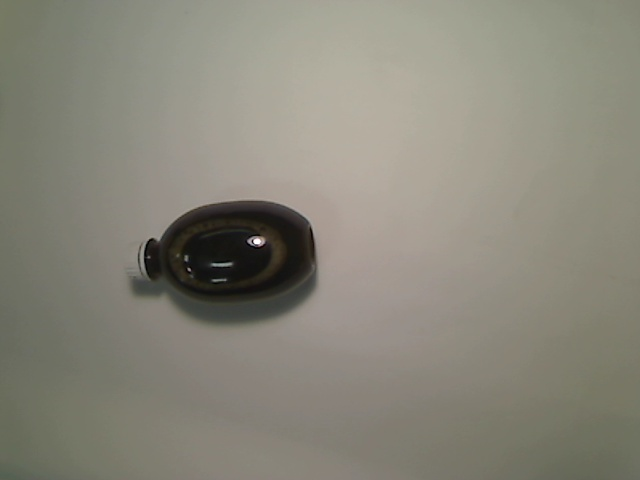plast_bottle: (125, 199, 317, 307)
